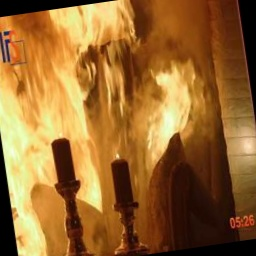fire: (0, 0, 188, 235)
